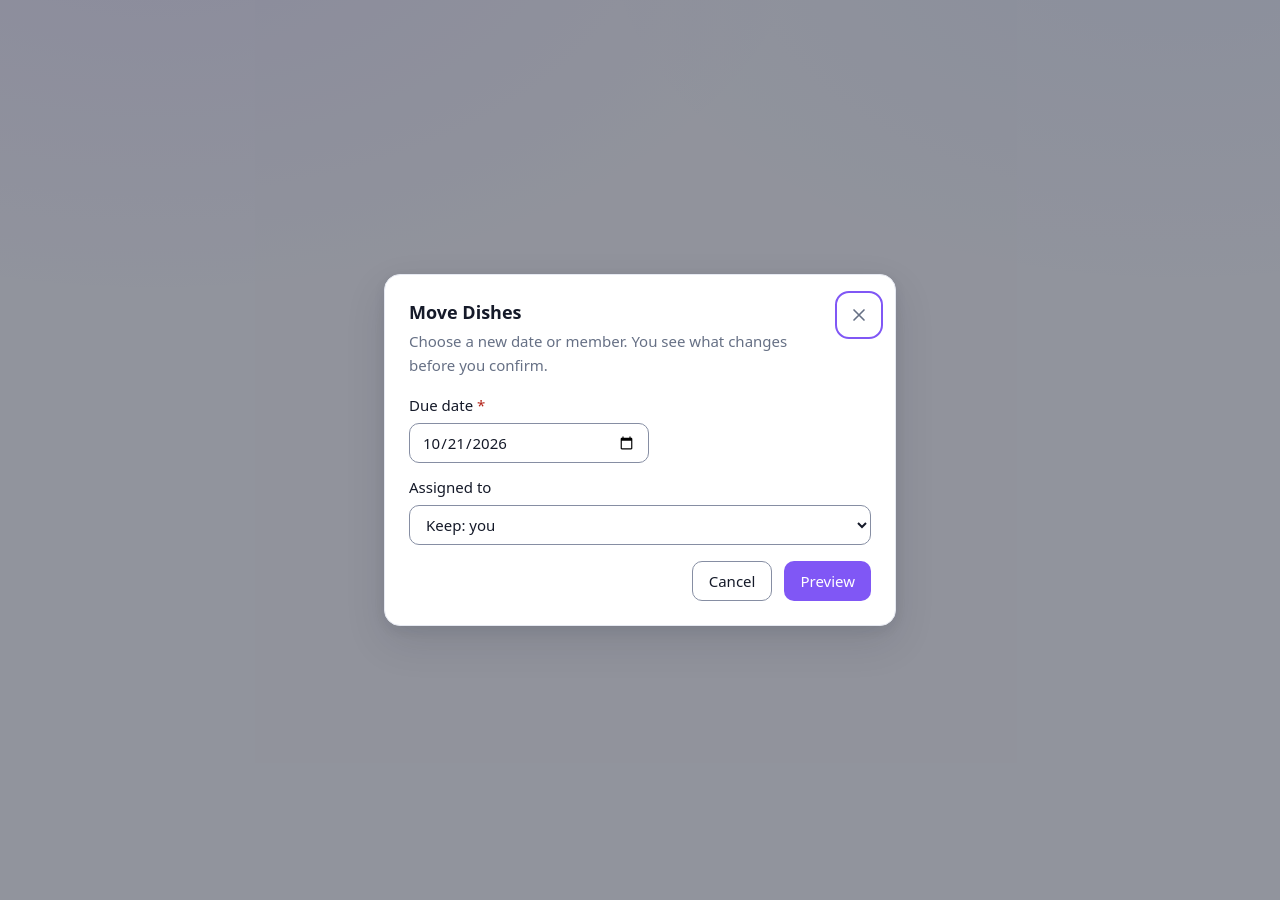
moving an occurrence › asks for a change before previewing nothing
Click the button with test id "chore-move-preview". click: click(828, 581)
box: x1=784 y1=561 x2=871 y2=601
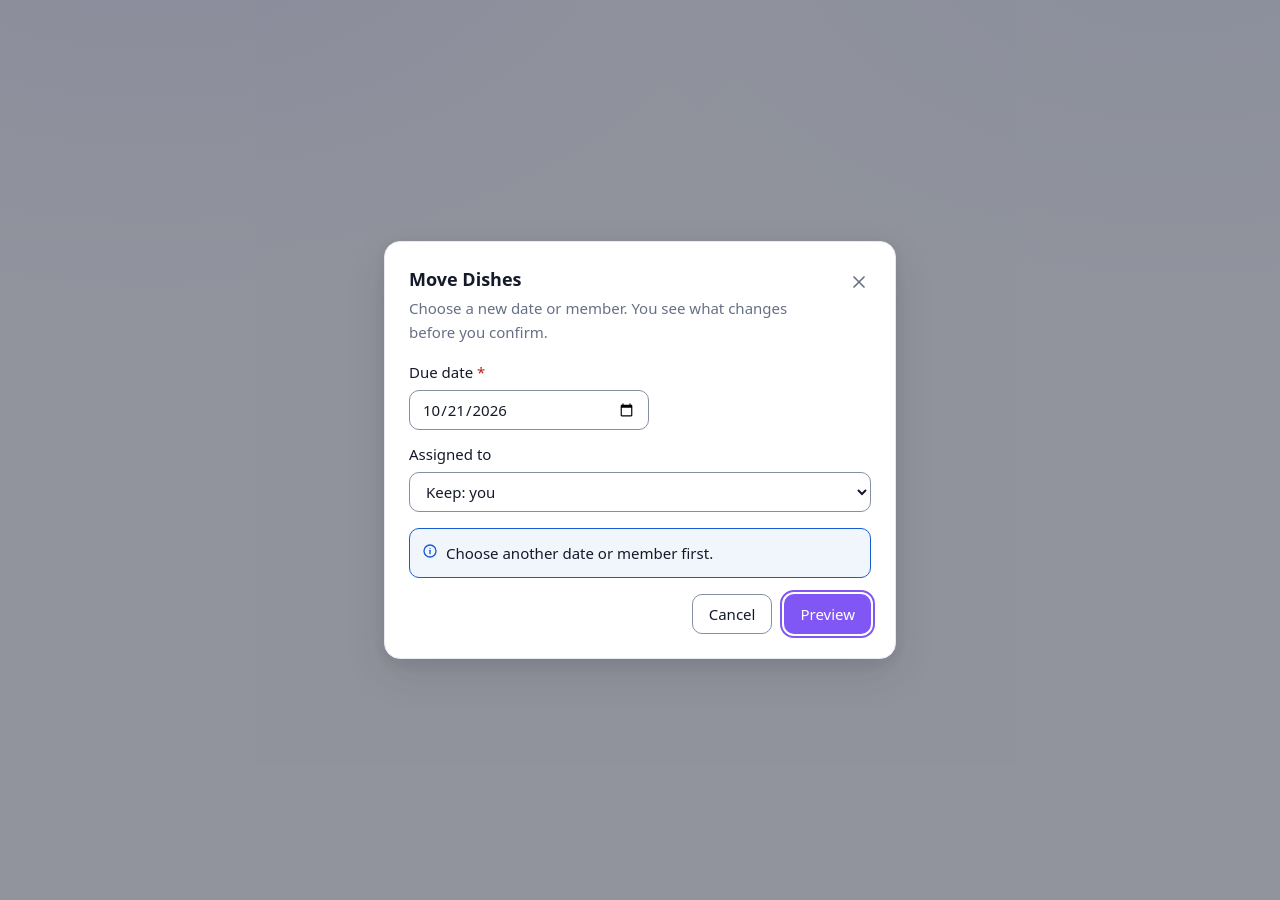
Expected: the text "Choose another date or member first." is shown, x1=446 y1=541 x2=713 y2=565
